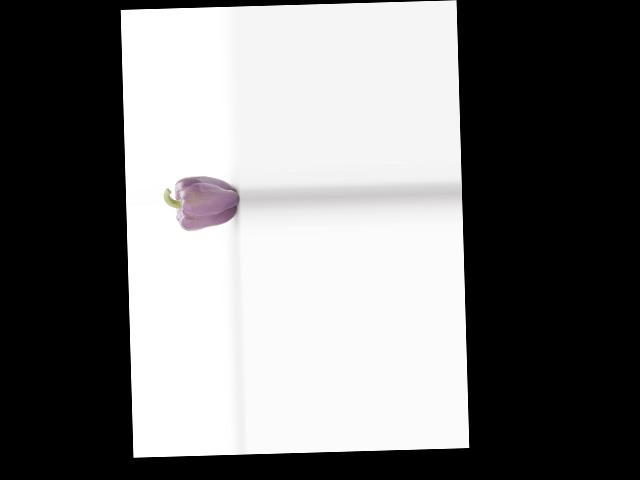bell_pepper: (163, 169, 238, 236)
